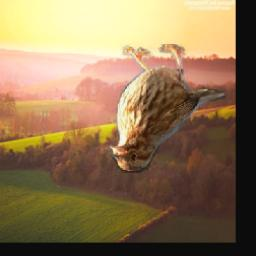Sparrow: (109, 45, 228, 174)
